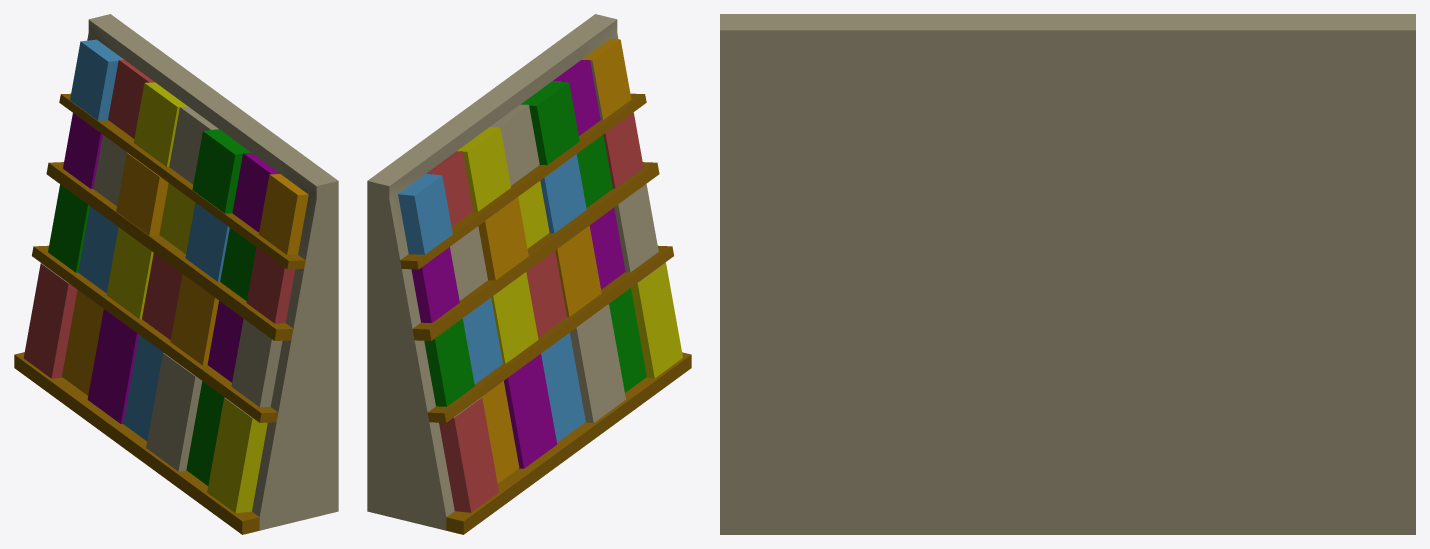
The model's file is Stand.fbx.
3 renders of one model, left to right at view 1: azimuth 30°, elevation 25°; view 2: azimuth 150°, elevation 25°; view 3: azimuth 270°, elevation 25°, orthographic. The views are drawn at different scales.
Visible parts, largest first — view 1: pCube1; view 2: pCube1; view 3: pCube1.
Boxes of the visible parts, x1,y1,x2,y2 form: pCube1: (14,14,338,534); pCube1: (367,14,691,534); pCube1: (720,14,1415,534).
Size of the model in its own units: 48.73 by 160 by 200.
